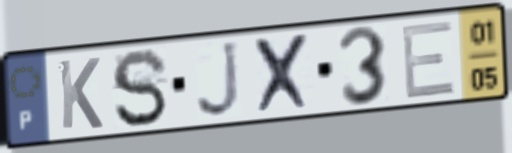3: (336, 23, 391, 108)
E: (398, 17, 459, 102)
J: (194, 38, 244, 121)
K: (55, 55, 106, 132)
S: (108, 47, 171, 130)
X: (251, 30, 317, 118)
